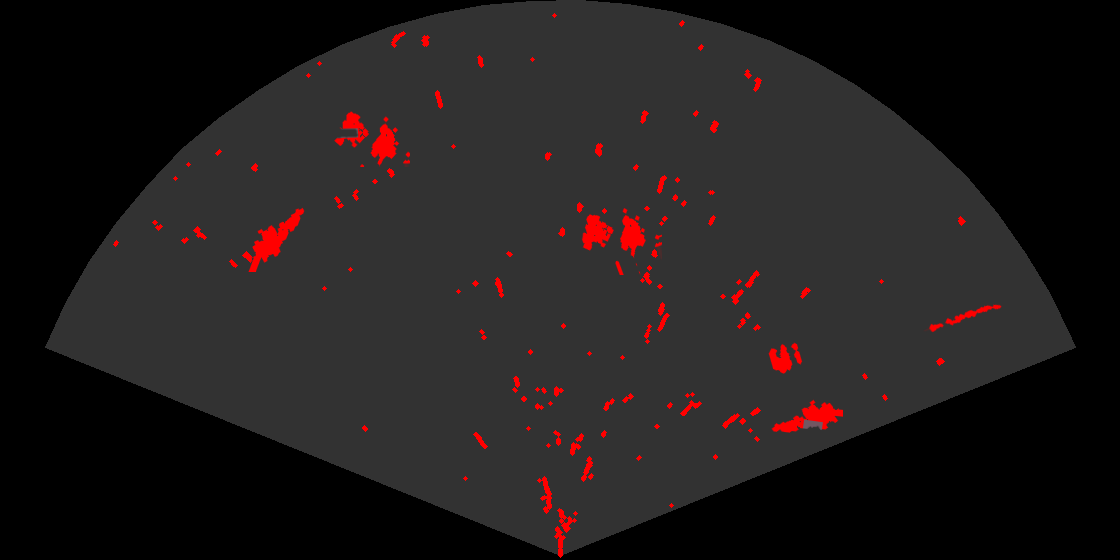ball: (767, 341, 804, 375)
cage: (580, 206, 662, 275), (333, 110, 410, 167)
chain: (923, 303, 1004, 334)
frogman: (247, 206, 306, 272), (770, 398, 843, 434)
